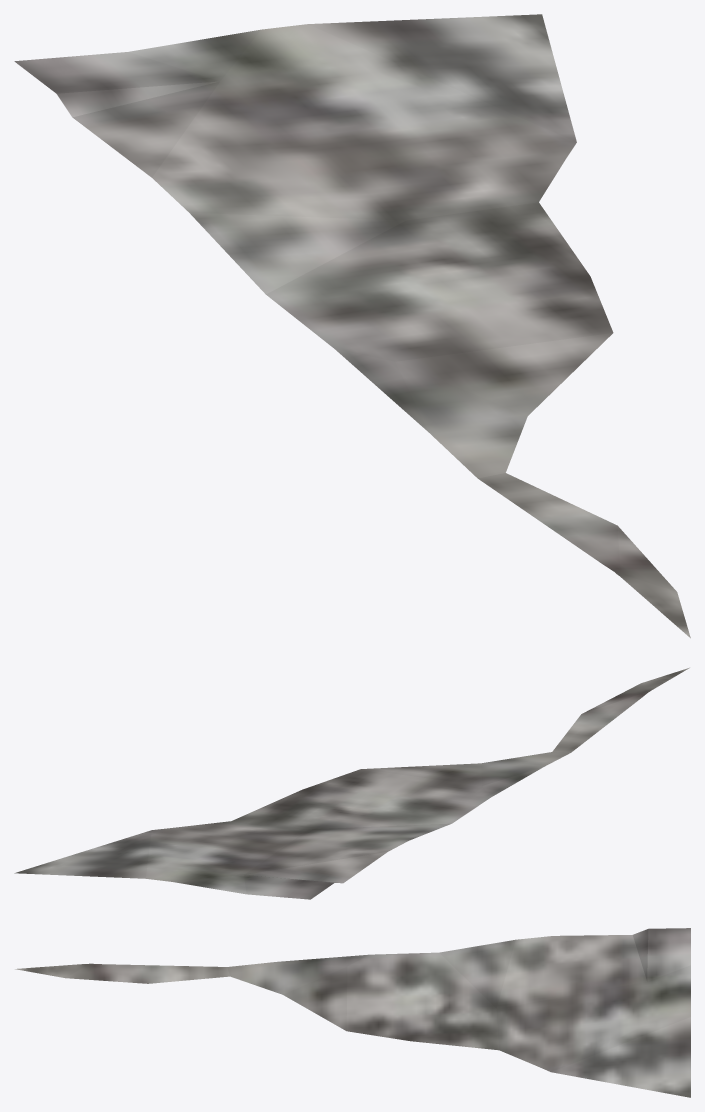
The picture shows the model from 3 angles, top to bottom: view 1: azimuth 30°, elevation 25°; view 2: azimuth 150°, elevation 25°; view 3: azimuth 270°, elevation 25°; orthographic projection. The views are drawn at different scales.
Bounding box in the file's own units: 0.2067 × 0.0306 × 0.4589.
1 material, 1 textured.
